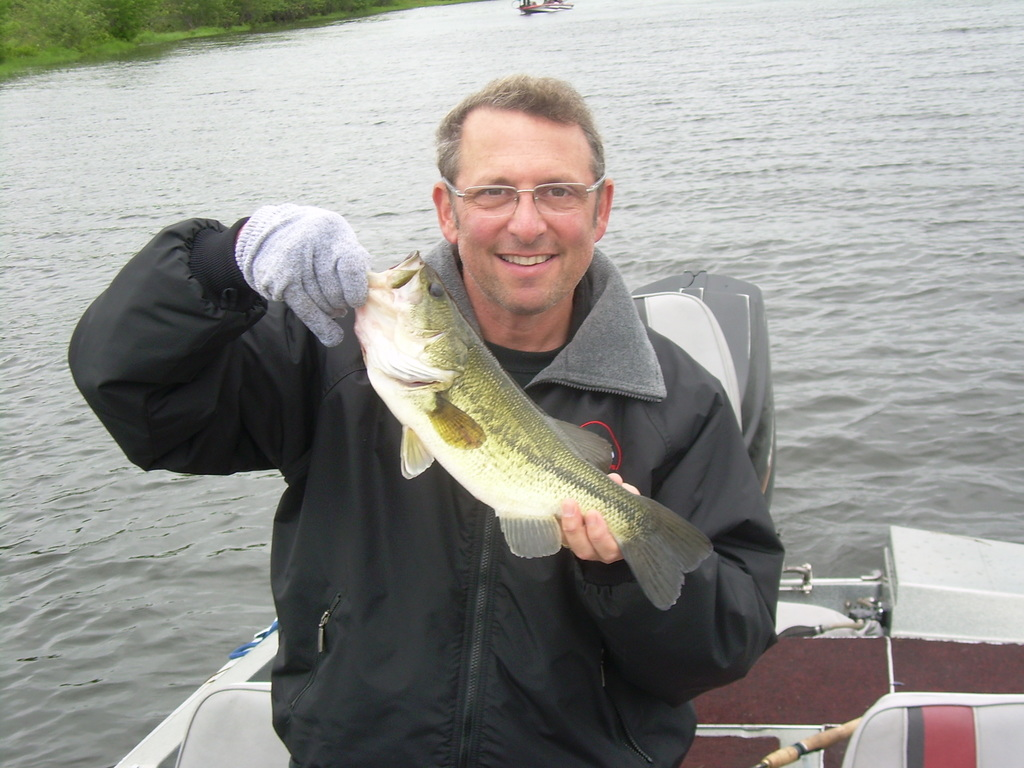Person: (66, 72, 786, 768)
